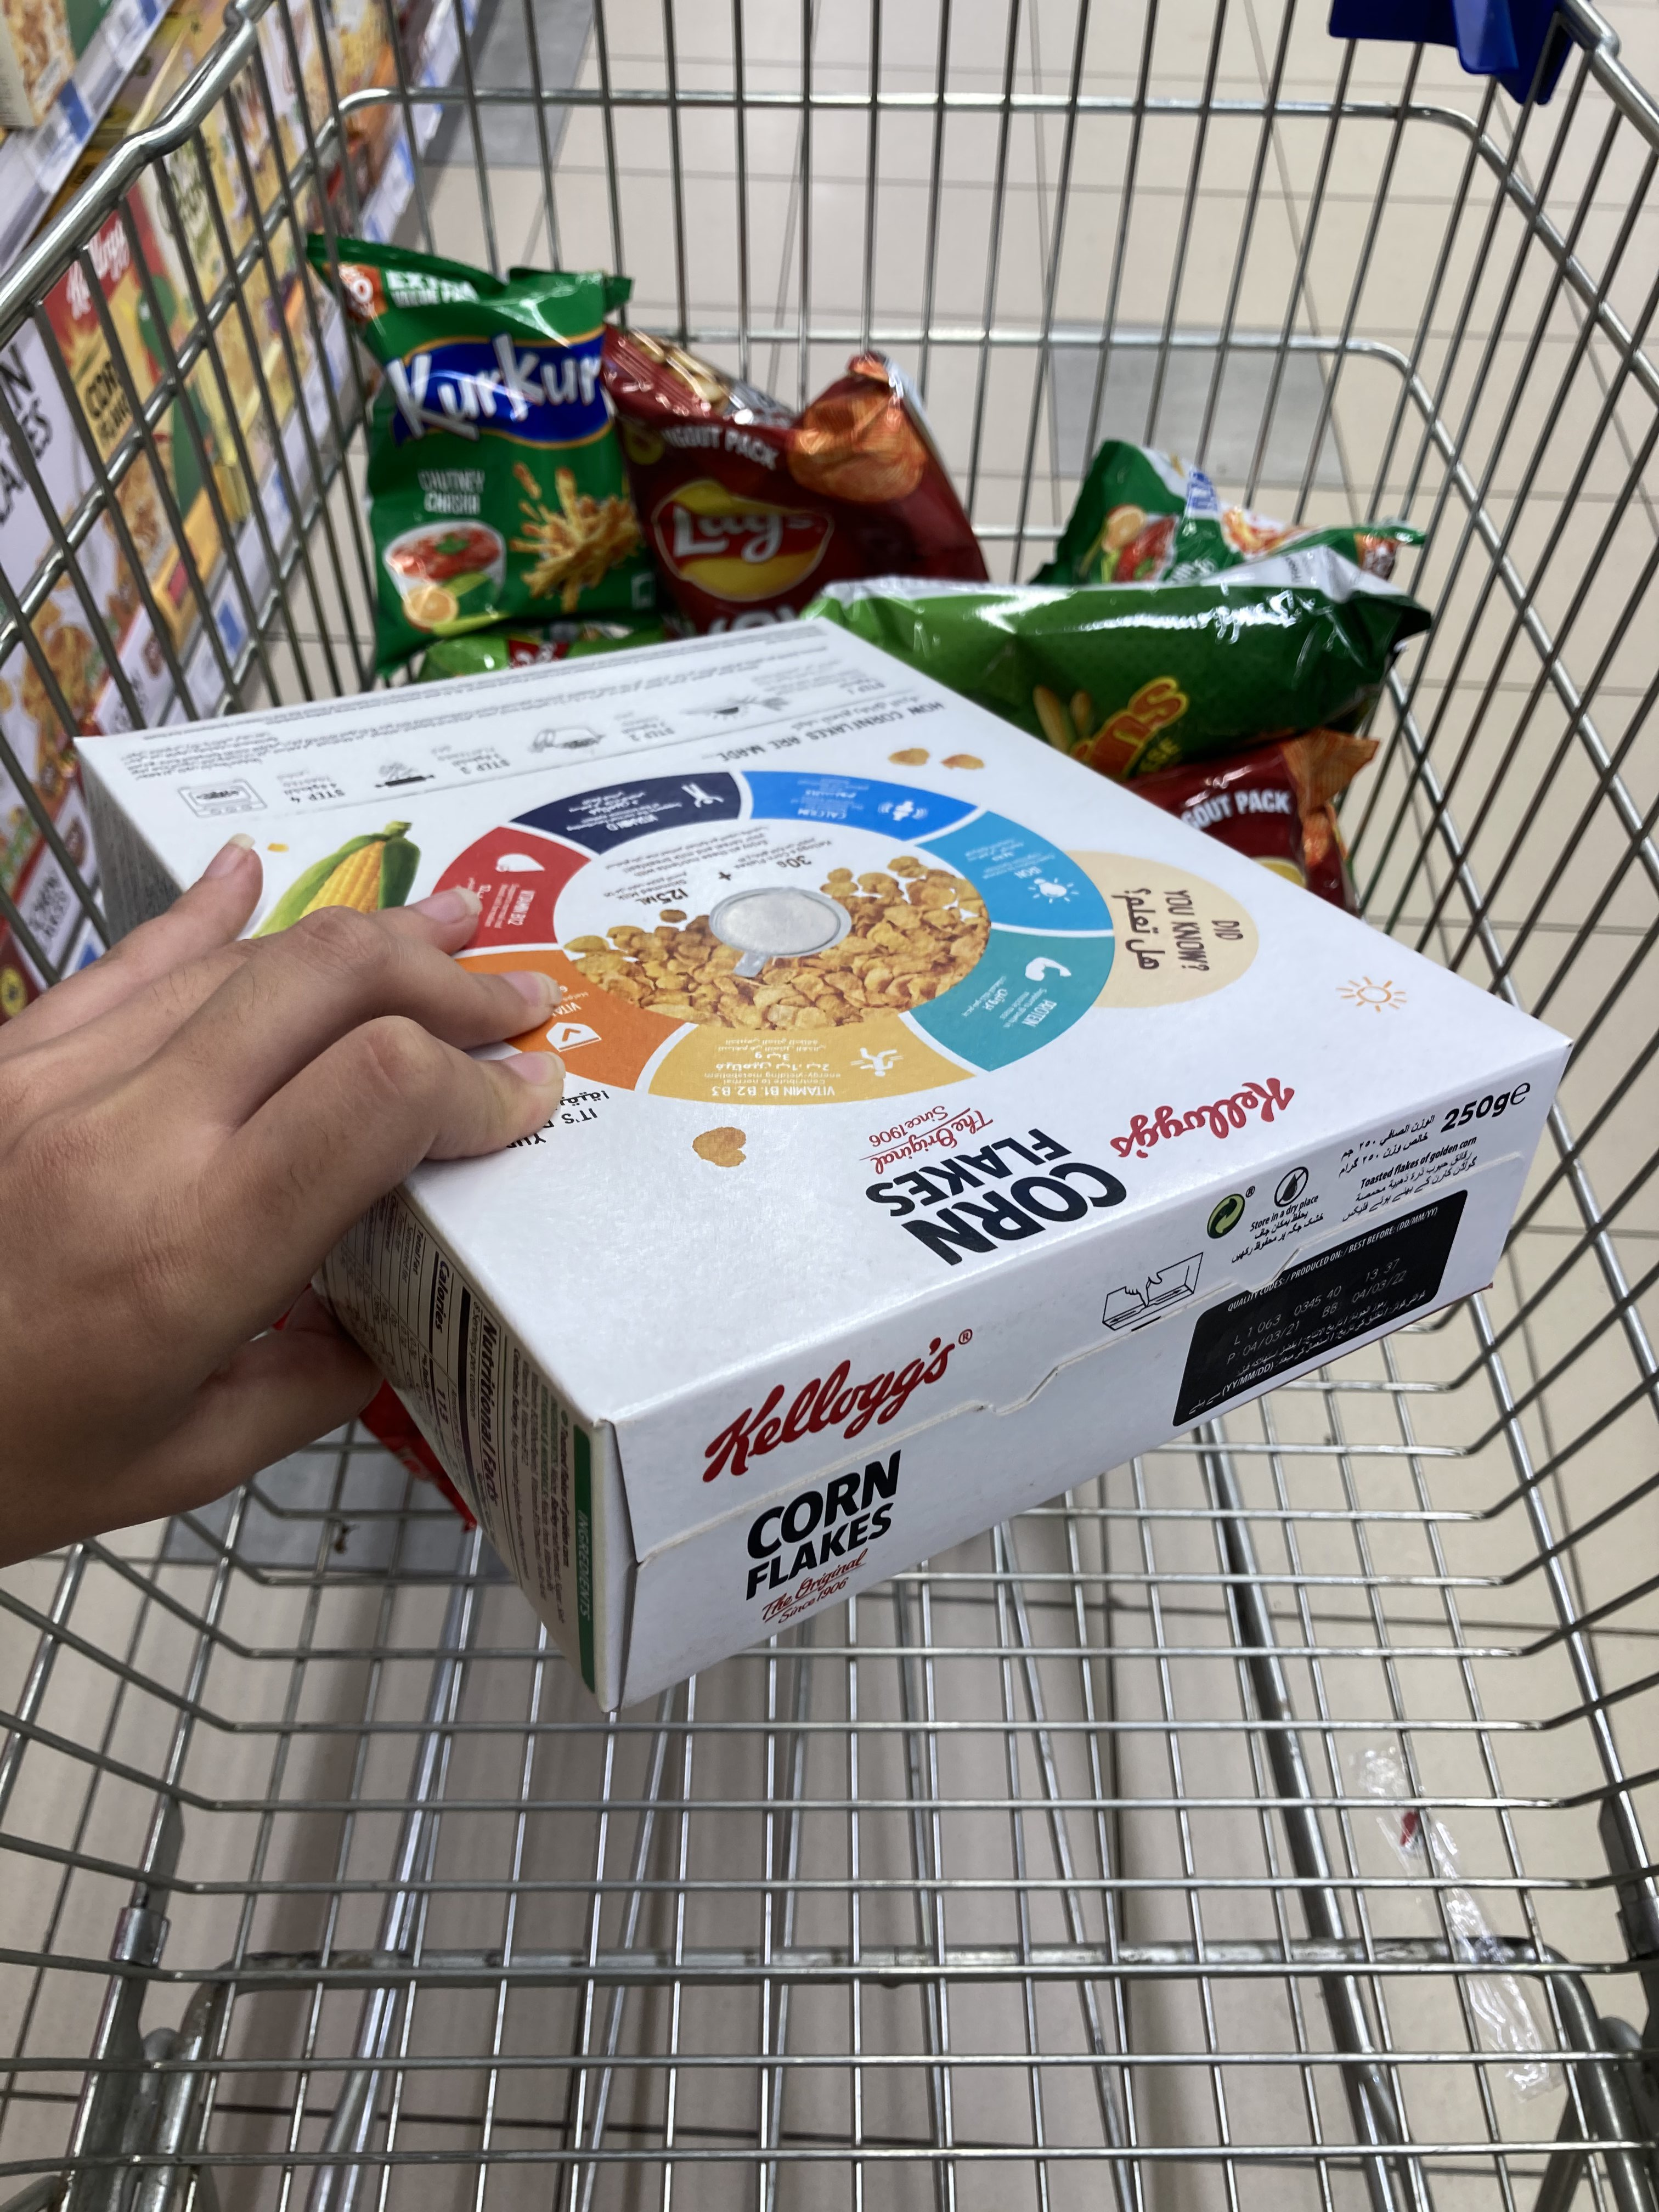Kellogg's Corn Flakes: (56, 624, 1589, 1716)
